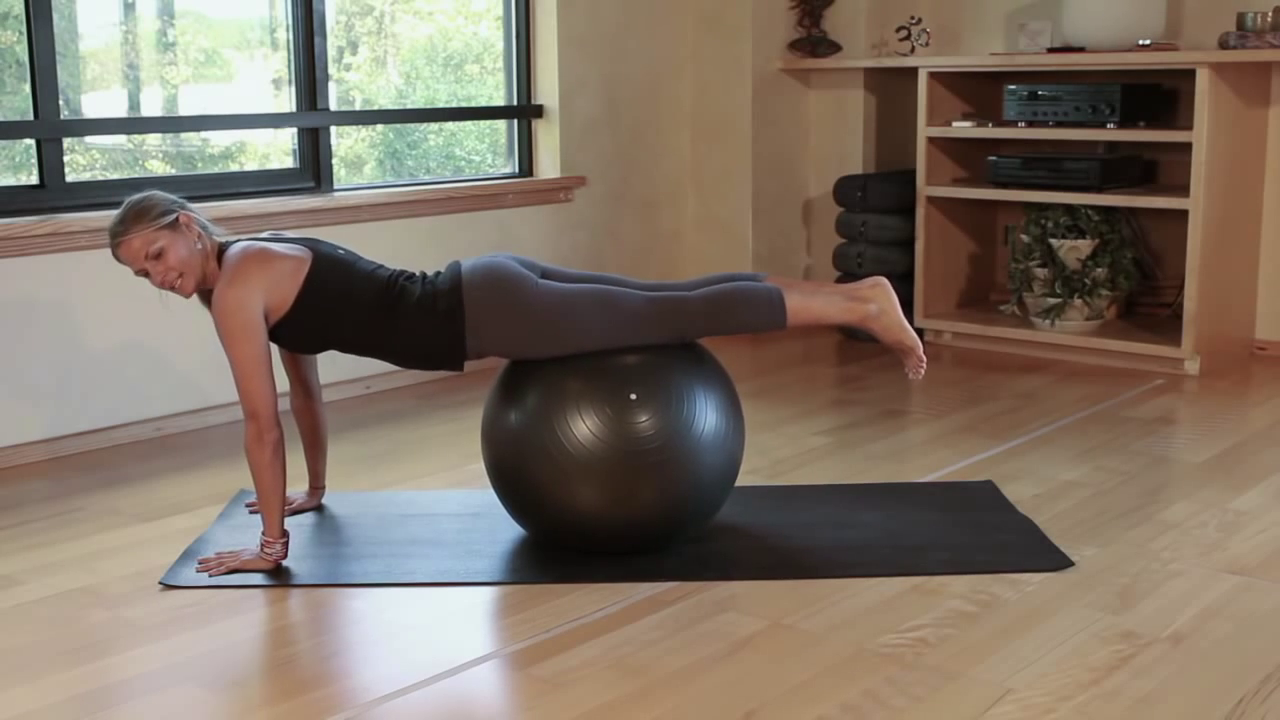yogaball: (471, 339, 753, 569)
